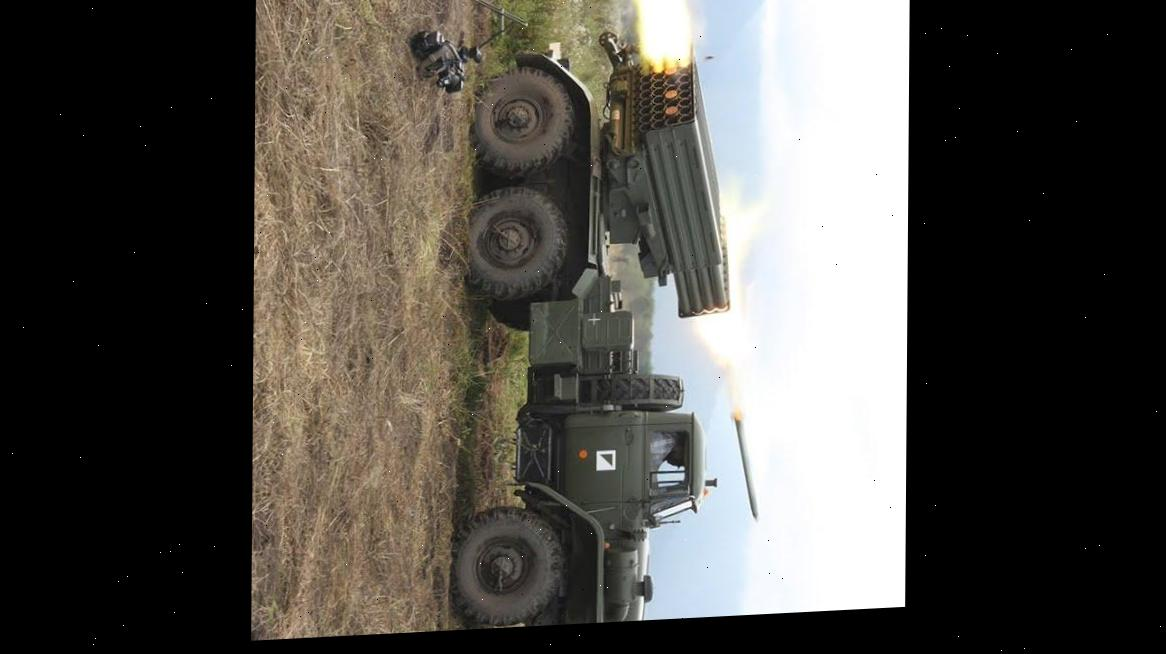rszo: (406, 15, 788, 633)
